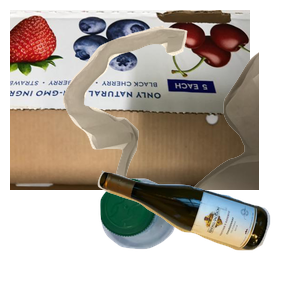cardboard: (10, 10, 250, 190)
glass: (95, 168, 300, 300)
plastic: (98, 176, 266, 300)
trash: (60, 23, 300, 203)
